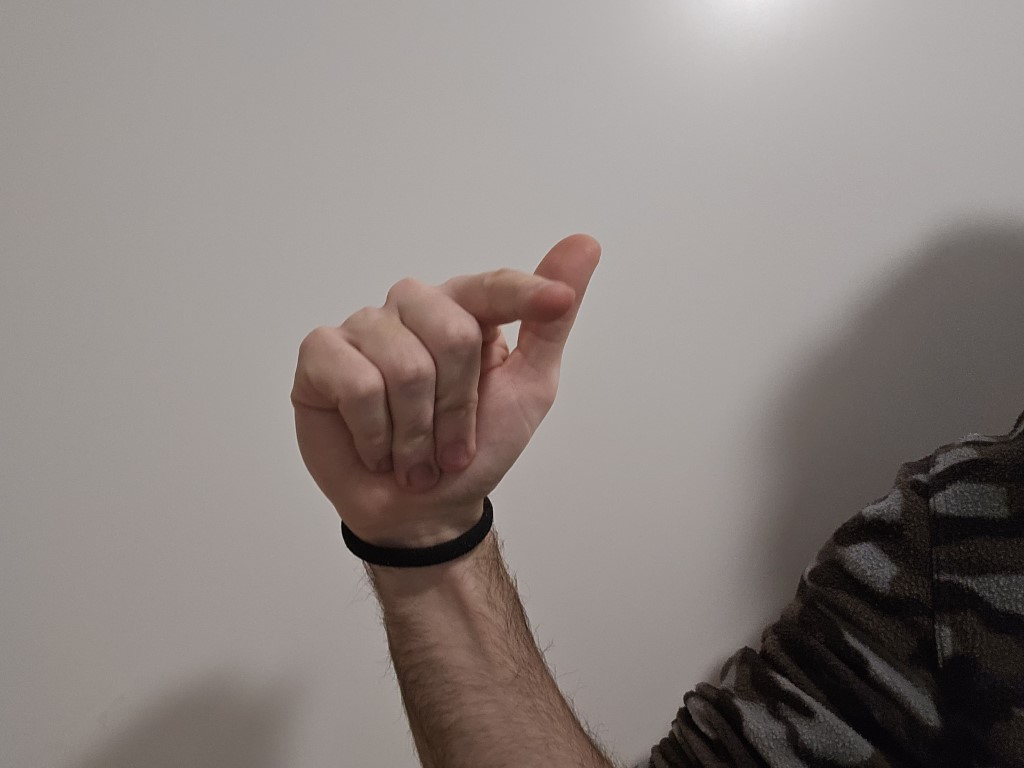t: (245, 212, 631, 526)
